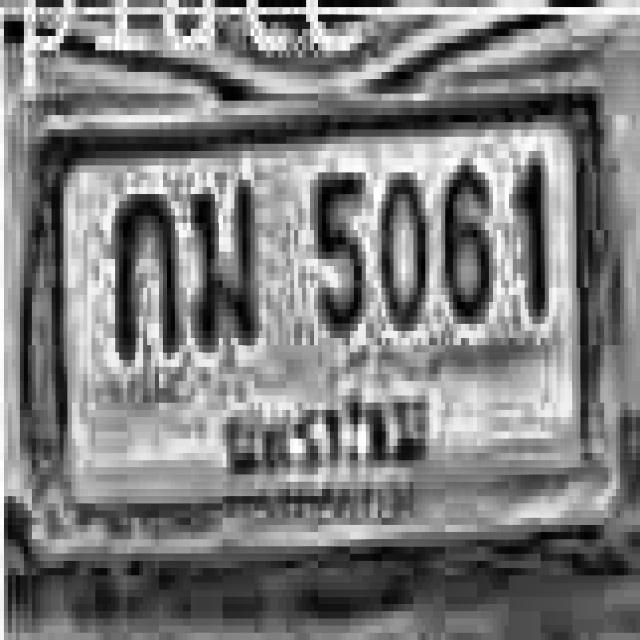license-plate: (19, 85, 622, 566)
